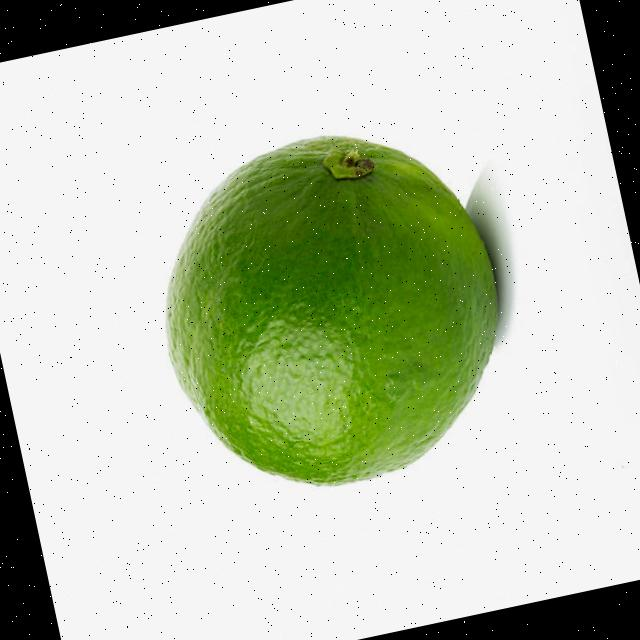Unripe: (127, 101, 534, 516)
